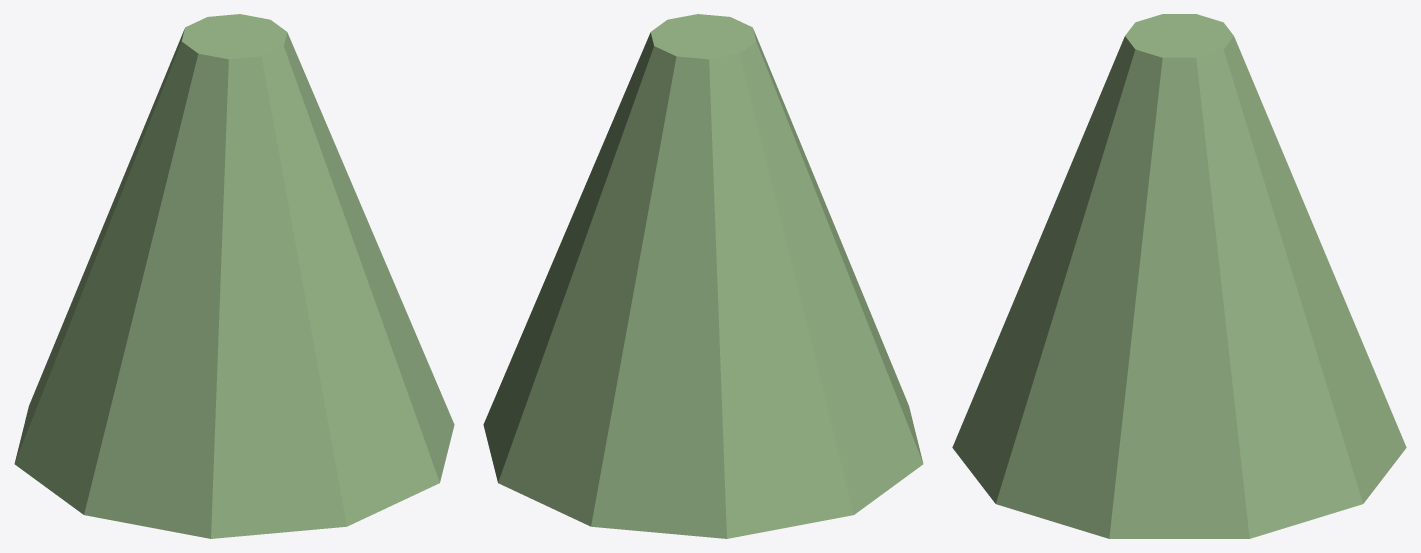
File: prop_bush.glb
3 renders of one model, left to right at view 1: azimuth 30°, elevation 25°; view 2: azimuth 150°, elevation 25°; view 3: azimuth 270°, elevation 25°, orthographic.
Visible parts, largest first — view 1: prop_bush-col; view 2: prop_bush-col; view 3: prop_bush-col.
Boxes of the visible parts, box(x1,y1,x2,y2) form: prop_bush-col: box(14, 14, 454, 538); prop_bush-col: box(483, 14, 923, 538); prop_bush-col: box(952, 14, 1406, 538).
Bounding box in the file's own units: 0.9511 × 1 × 1.
